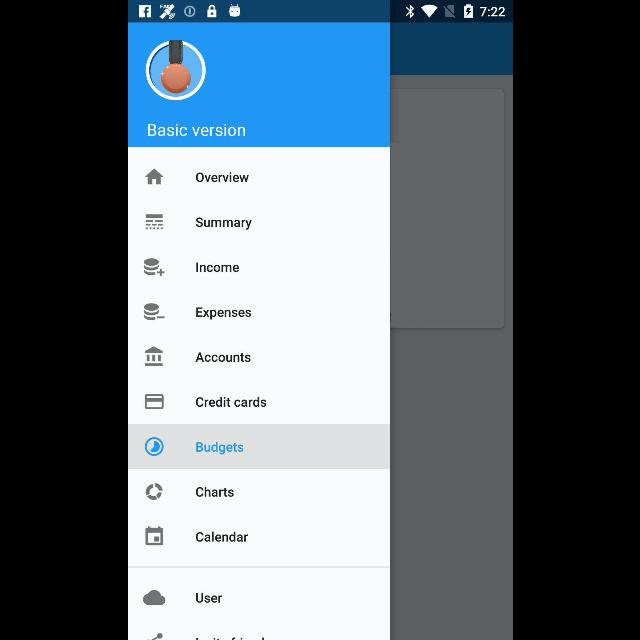icon: (142, 590, 166, 606), (145, 526, 163, 546), (144, 346, 162, 366), (144, 394, 164, 410), (144, 169, 164, 185), (145, 214, 163, 230)
image: (144, 40, 206, 100), (144, 438, 164, 457), (144, 259, 164, 277), (144, 304, 164, 320), (146, 482, 162, 500)
panel: (128, 22, 388, 640)
text: (148, 124, 245, 136), (194, 397, 266, 408), (195, 306, 251, 320), (194, 218, 252, 230), (195, 442, 243, 454), (194, 352, 250, 362), (195, 532, 248, 542), (196, 172, 248, 182), (196, 262, 238, 272), (195, 487, 233, 498), (194, 593, 222, 603)
uppertaskbar: (128, 1, 512, 23)
